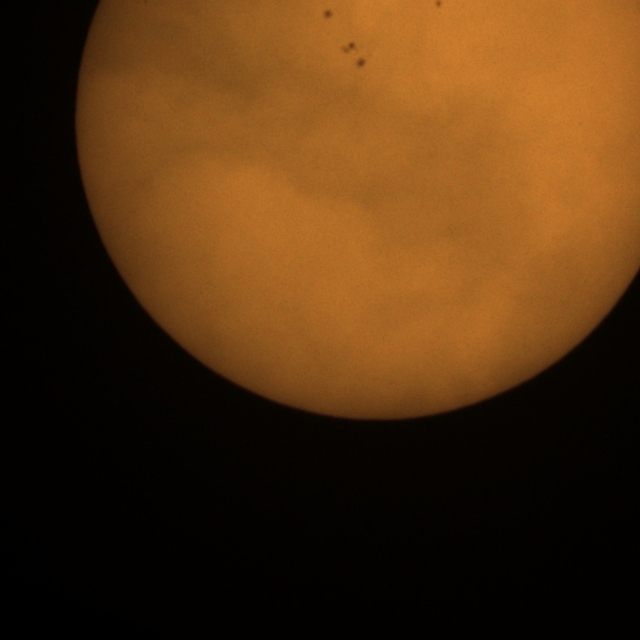sunspot: (340, 41, 368, 68), (322, 8, 334, 21), (434, 0, 444, 11)
